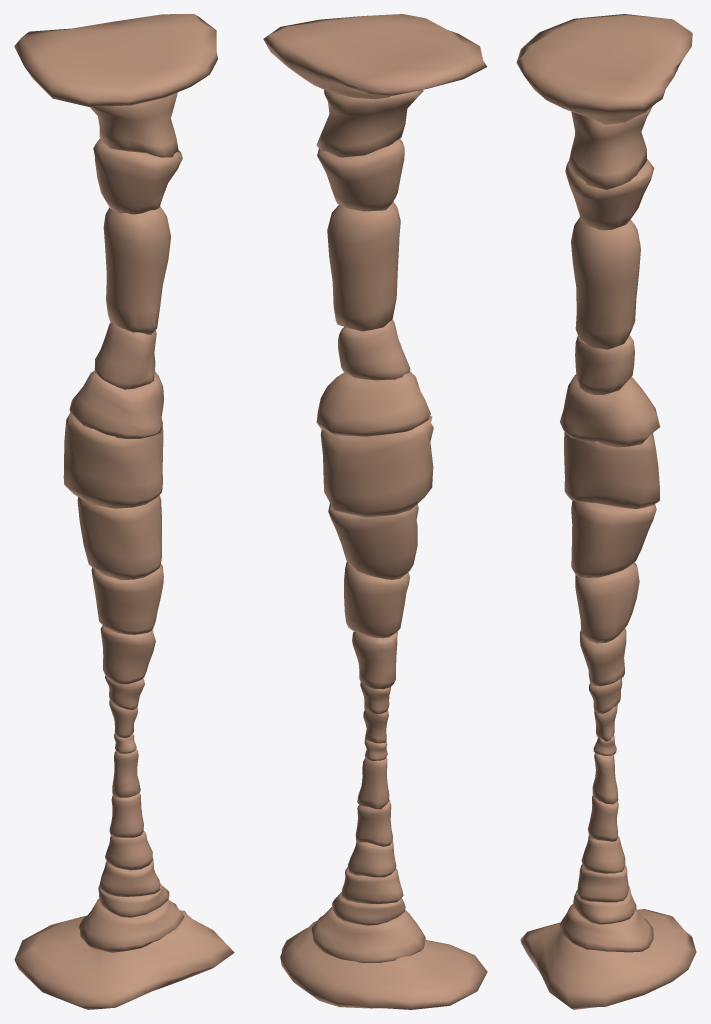
File: obs_stal_long.fbx
3 renders of one model, left to right at view 1: azimuth 30°, elevation 25°; view 2: azimuth 150°, elevation 25°; view 3: azimuth 270°, elevation 25°, orthographic. The views are drawn at different scales.
Visible parts, largest first — view 1: stal.012; view 2: stal.012; view 3: stal.012.
Boxes of the visible parts, x1=… form: stal.012: x1=14, y1=14, x2=234, y2=1009; stal.012: x1=263, y1=14, x2=487, y2=1009; stal.012: x1=516, y1=14, x2=696, y2=1009.
Bounding box in the file's own units: 0.8467 × 4.06 × 0.7224.
